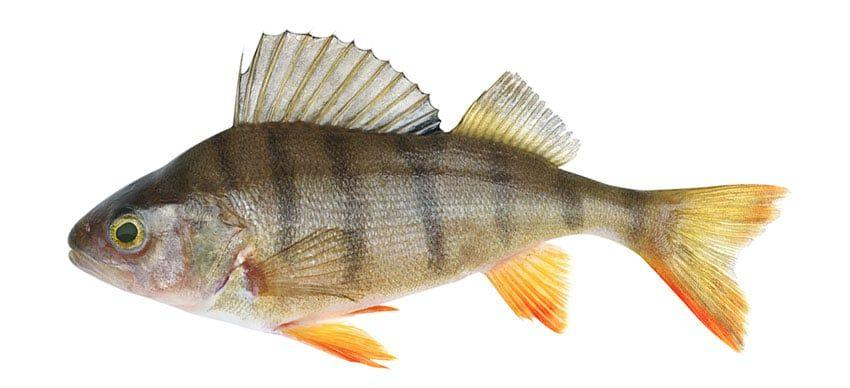Perch: (67, 30, 775, 362)
